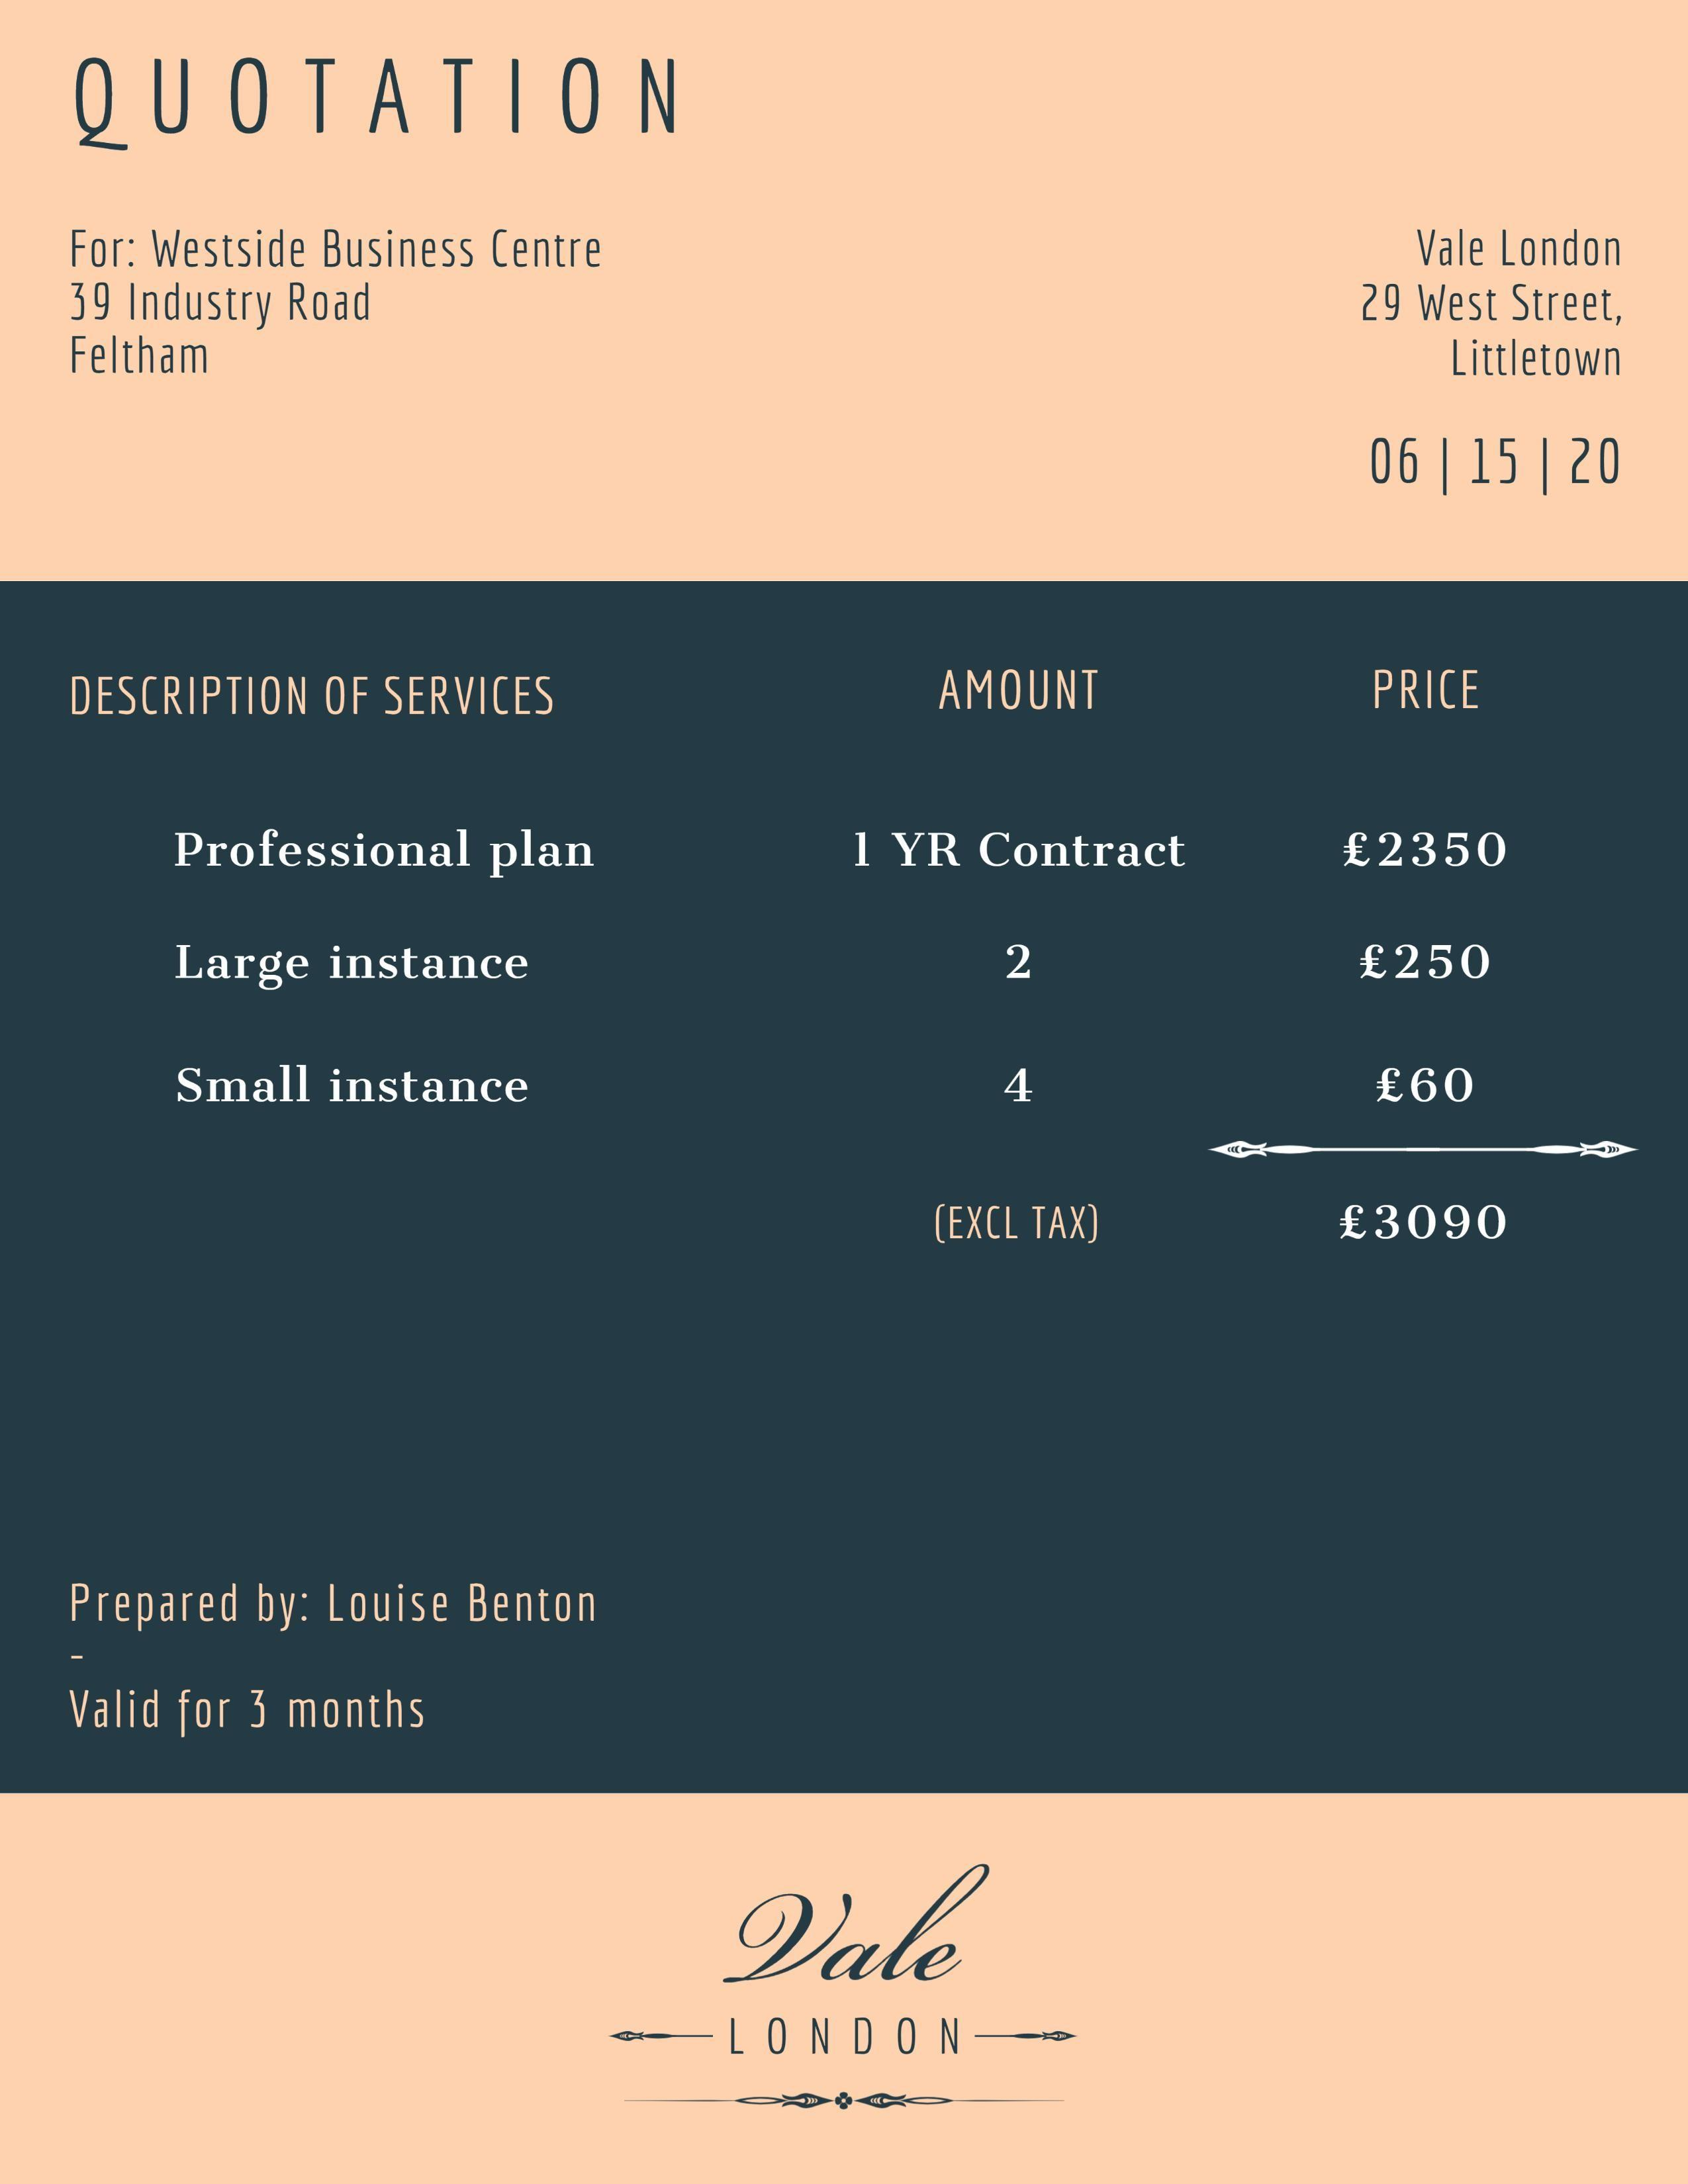ROI: (60, 661, 1661, 1142), (589, 1867, 1089, 2088), (53, 1576, 626, 1744), (60, 225, 635, 381), (920, 1191, 1516, 1257)
